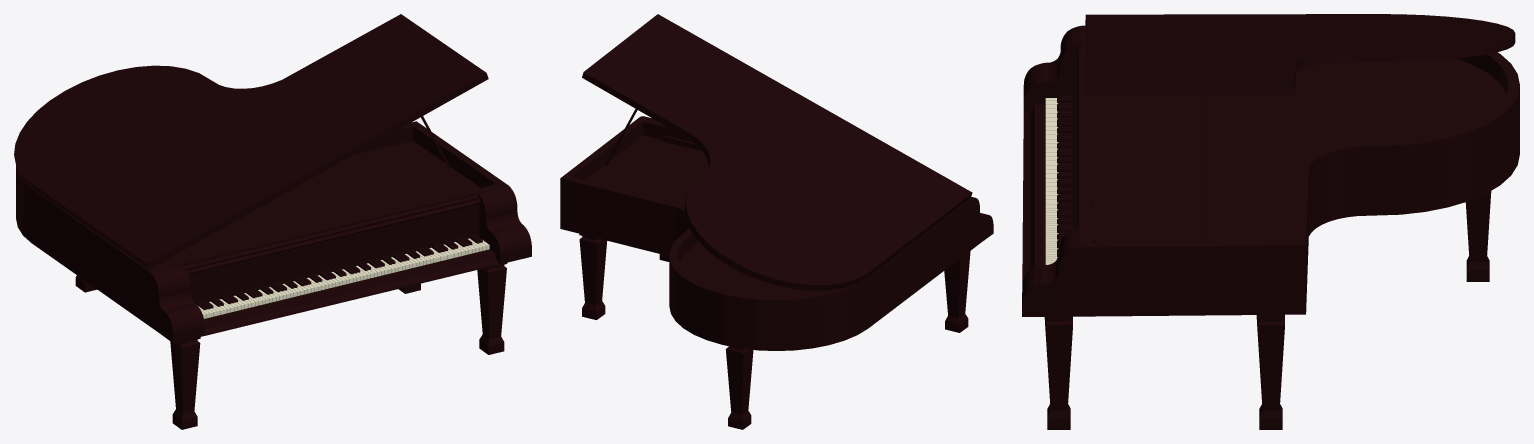
File: piano.glb
3 renders of one model, left to right at view 1: azimuth 30°, elevation 25°; view 2: azimuth 150°, elevation 25°; view 3: azimuth 270°, elevation 25°, orthographic. The views are drawn at different scales.
Visible parts, largest first — view 1: Plane, 立方体.025, 立方体.026, 立方体, NURBSパス.001, NURBSパス; view 2: Plane, 立方体.026; view 3: Plane, 立方体.026, 立方体, NURBSパス, NURBSパス.001, 立方体.025.
Boxes of the visible parts, bbox=[...] form: Plane: bbox=[14, 14, 531, 343]; 立方体.025: bbox=[188, 204, 479, 304]; 立方体.026: bbox=[75, 263, 507, 429]; 立方体: bbox=[197, 238, 489, 318]; NURBSパス.001: bbox=[186, 199, 480, 274]; NURBSパス: bbox=[183, 194, 479, 270]; Plane: bbox=[560, 14, 993, 350]; 立方体.026: bbox=[579, 233, 970, 429]; Plane: bbox=[1022, 14, 1519, 316]; 立方体.026: bbox=[1044, 191, 1491, 429]; 立方体: bbox=[1045, 98, 1058, 264]; NURBSパス: bbox=[1076, 46, 1081, 228]; NURBSパス.001: bbox=[1072, 51, 1075, 229]; 立方体.025: bbox=[1092, 96, 1095, 242].
Bounding box in the file's own units: 2.58 × 1.83 × 2.41.
